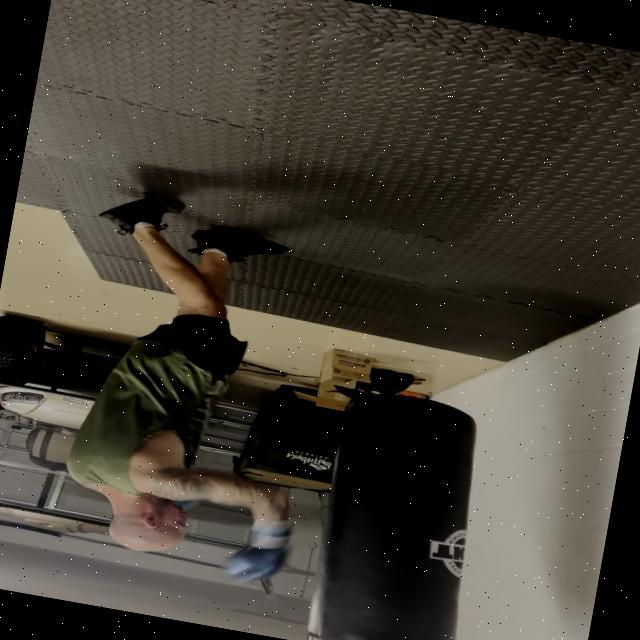bag: (293, 375, 497, 640)
uppercut: (33, 407, 314, 589)
